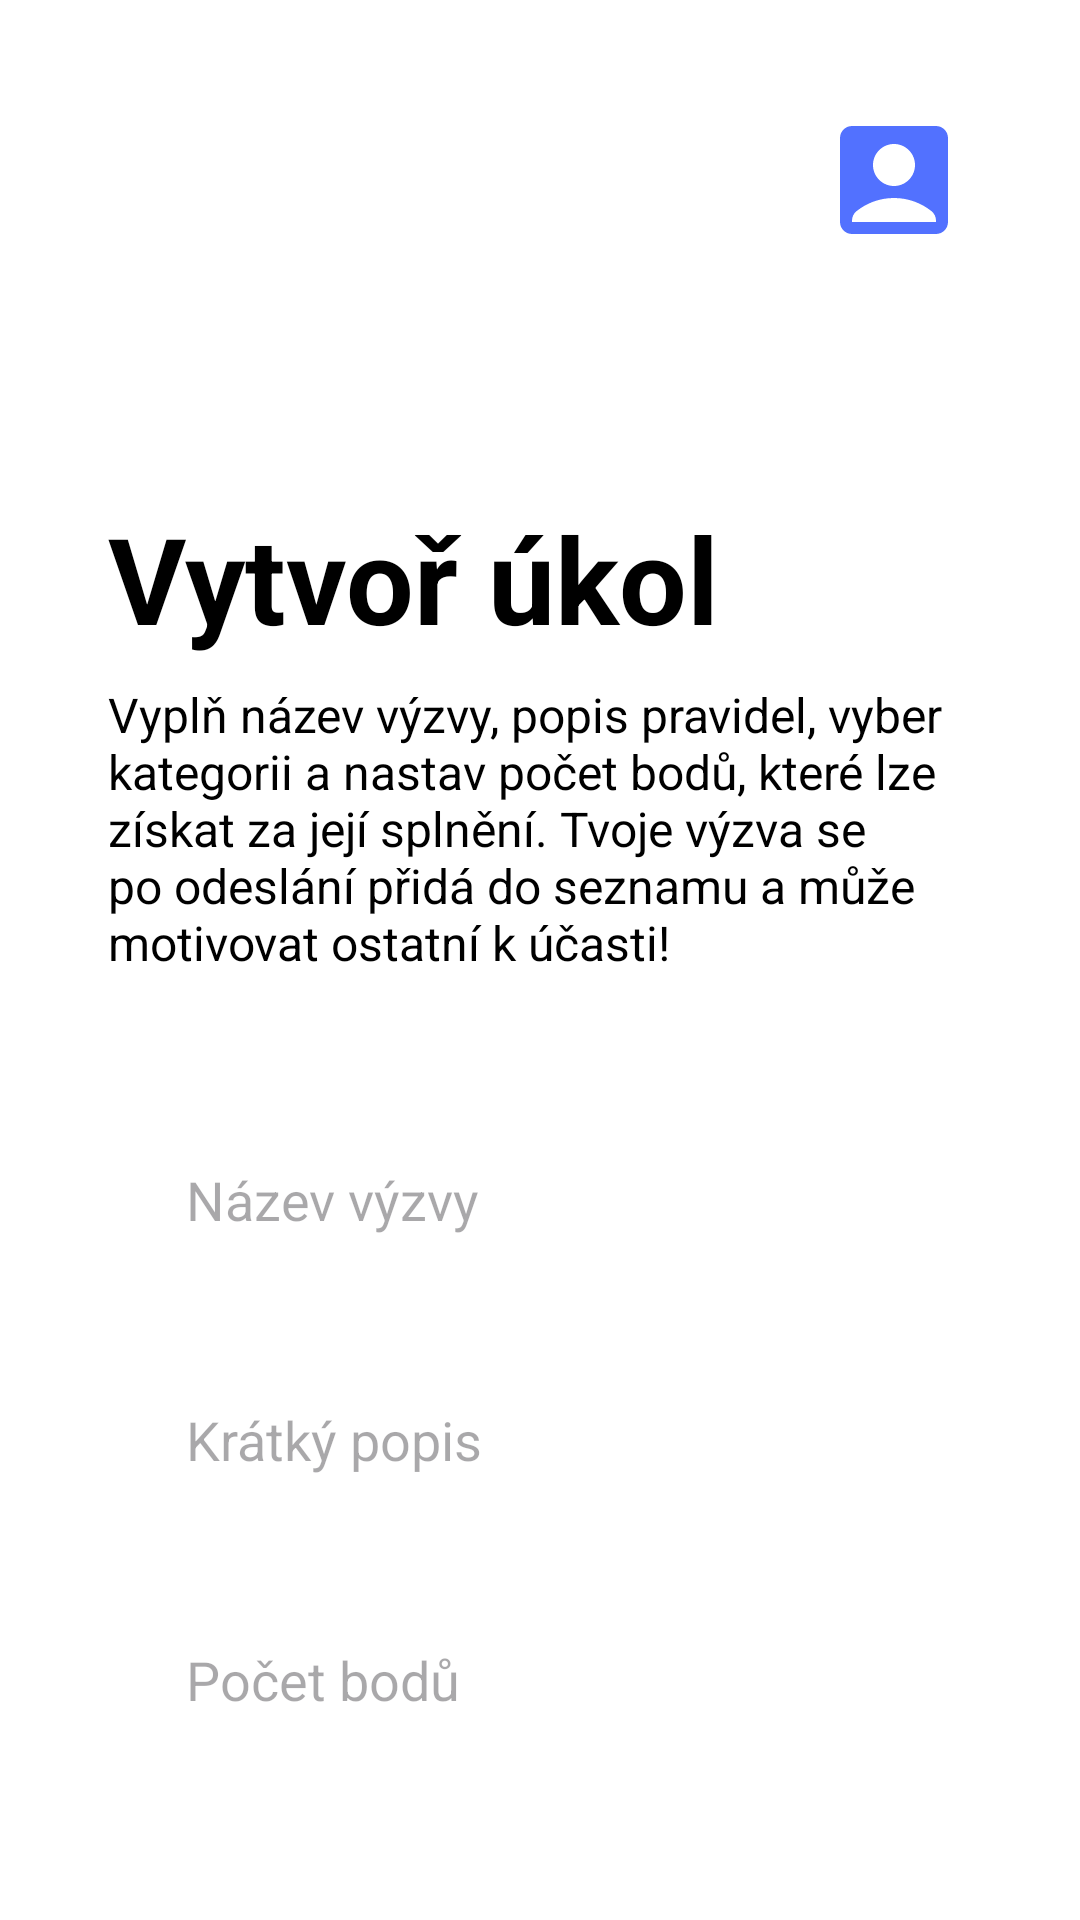

Named icons in this screenshot (1080 x 1920) and their bounding boxes, (x1, y1, x2, y2):
Profil uživatele: (840, 126, 948, 234)
